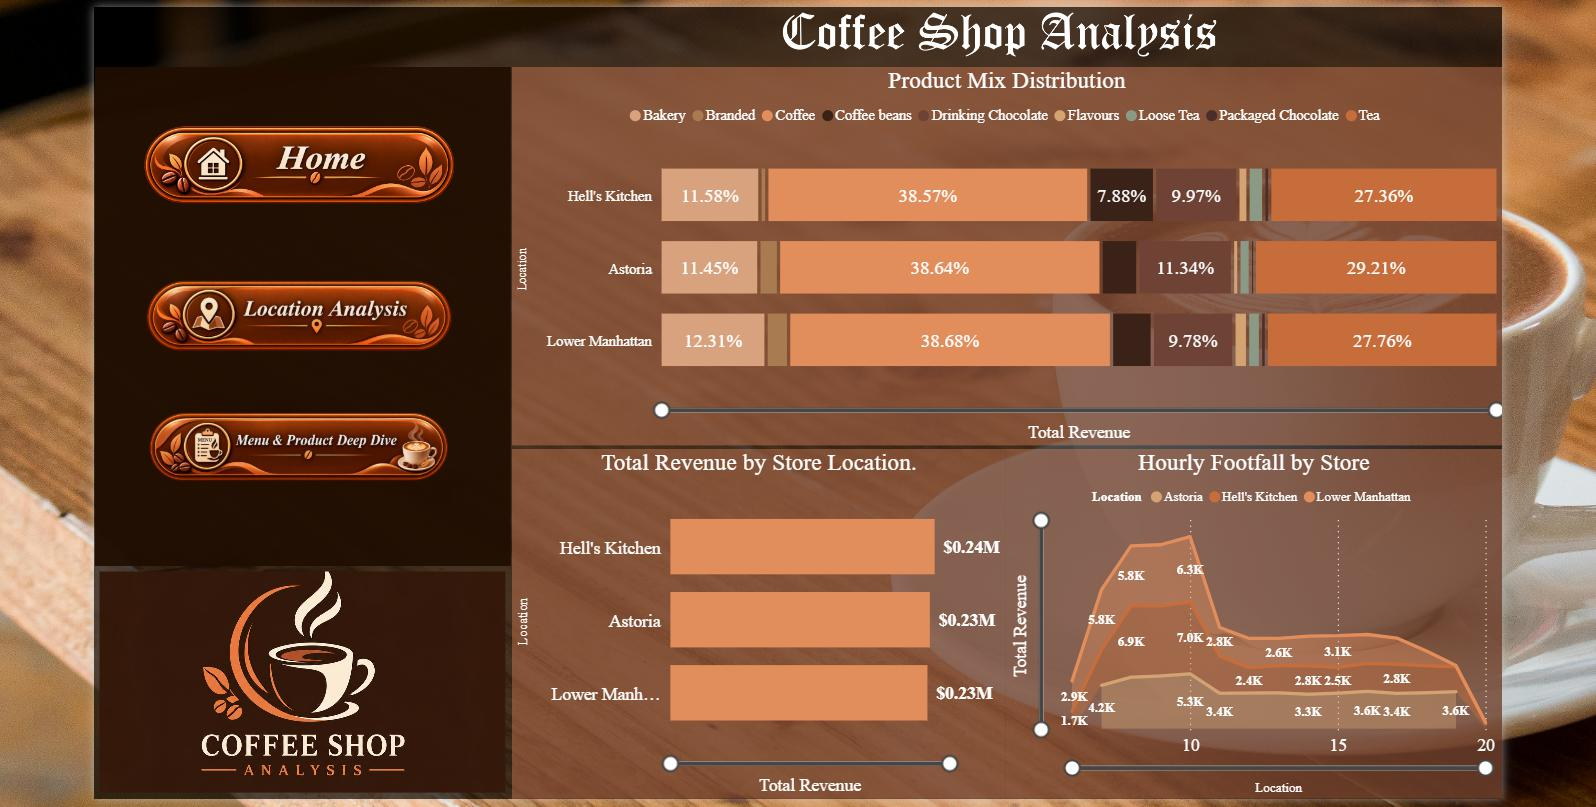

The dashboard page shown, as its layout file describes it:
{"tool":"powerbi","page":{"name":"STORE LOCATION ANALYSIS","canvas":[1280,720],"ordinal":1},"visuals":[{"type":"clusteredBarChart","title":"Total Revenue by Store Location.","fields":{"Category":["TRANSACTIONS.STORE_LOCATION"],"Y":["TRANSACTIONS.TOTAL_AMT_SUMX"]},"box":[380,401.8,449.1,318.2],"z":0},{"type":"stackedAreaChart","title":"Hourly Footfall by Store","fields":{"Category":["TRANSACTIONS.Hour"],"Series":["TRANSACTIONS.STORE_LOCATION"],"Y":["TRANSACTIONS.TRANSACTION_COUNT"]},"box":[829.1,401.8,450.9,318.2],"z":1000},{"type":"image","box":[0,508.2,379.1,210.9],"z":2000},{"type":"image","box":[551.8,0,556.4,54.5],"z":3000},{"type":"hundredPercentStackedBarChart","title":"Product Mix Distribution","fields":{"Category":["TRANSACTIONS.STORE_LOCATION"],"Series":["TRANSACTIONS.PRODUCT_CATEGORY"],"Y":["TRANSACTIONS.TOTAL_AMT_SUMX"]},"box":[380,54.5,900,343.6],"z":4000},{"type":"shape","box":[0.9,54.5,378.2,453.6],"z":5000},{"type":"image","box":[36.4,79.1,300,130.9],"z":6000},{"type":"image","box":[36.4,216.4,300,130.9],"z":7000},{"type":"image","box":[36.4,336.4,300,130.9],"z":8000}]}

Visuals, with their boxes on the page's 1280x720 design canvas (x1, y1, x2, y2). These are canvas units, not pixel positions in the 1596x807 screenshot, which may show the page scaled, cropped or inside an application window:
"Total Revenue by Store Location." clusteredBarChart: 380, 402, 829, 720
"Hourly Footfall by Store" stackedAreaChart: 829, 402, 1280, 720
image: 0, 508, 379, 719
image: 552, 0, 1108, 54
"Product Mix Distribution" hundredPercentStackedBarChart: 380, 54, 1280, 398
shape: 1, 54, 379, 508
image: 36, 79, 336, 210
image: 36, 216, 336, 347
image: 36, 336, 336, 467
